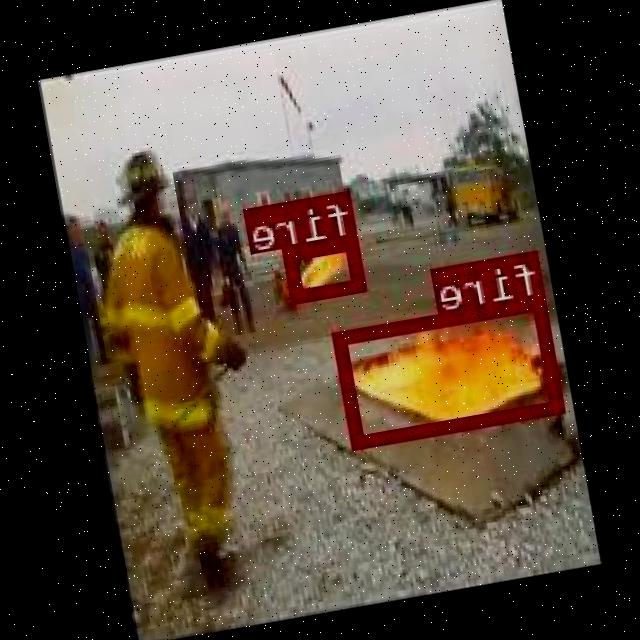fire: (334, 292, 567, 446), (286, 232, 368, 300)
